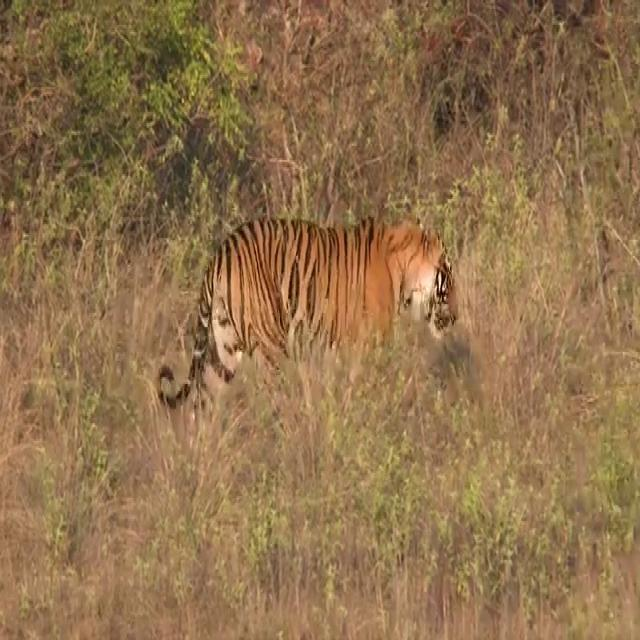tiger: (158, 214, 460, 409)
